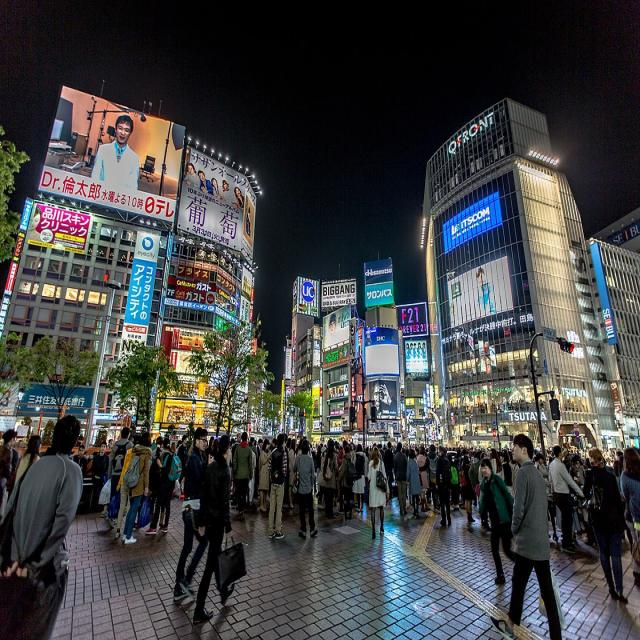body: (0, 413, 640, 640), (26, 109, 254, 282), (308, 262, 510, 414), (0, 410, 85, 639), (486, 430, 566, 639), (190, 432, 247, 628), (580, 445, 630, 606), (172, 426, 216, 604), (477, 456, 517, 586), (547, 443, 586, 554), (120, 428, 154, 546), (144, 436, 182, 537), (98, 427, 135, 528), (114, 430, 143, 540), (292, 438, 319, 542), (570, 453, 599, 545), (533, 451, 560, 543), (622, 448, 640, 586), (266, 432, 288, 541), (367, 445, 391, 540), (232, 431, 256, 523), (613, 459, 633, 555), (417, 444, 442, 514), (88, 439, 110, 515), (148, 435, 166, 527), (12, 434, 42, 489), (433, 443, 452, 529), (337, 444, 356, 521), (322, 438, 338, 521), (257, 437, 273, 514), (393, 442, 409, 516), (415, 445, 432, 513), (275, 432, 289, 514), (336, 438, 351, 514), (460, 454, 476, 524), (406, 448, 422, 517), (352, 443, 366, 514), (445, 452, 461, 514), (342, 446, 356, 512), (2, 427, 20, 478), (0, 427, 19, 474), (499, 448, 515, 499), (245, 440, 257, 507), (176, 434, 188, 494), (468, 450, 480, 508), (382, 441, 393, 501), (288, 438, 297, 510), (488, 447, 505, 482), (73, 444, 89, 478), (478, 451, 488, 503), (510, 452, 520, 495), (231, 431, 242, 464), (314, 444, 322, 478), (249, 435, 259, 459), (210, 438, 218, 456), (256, 438, 263, 457), (319, 445, 327, 458)
